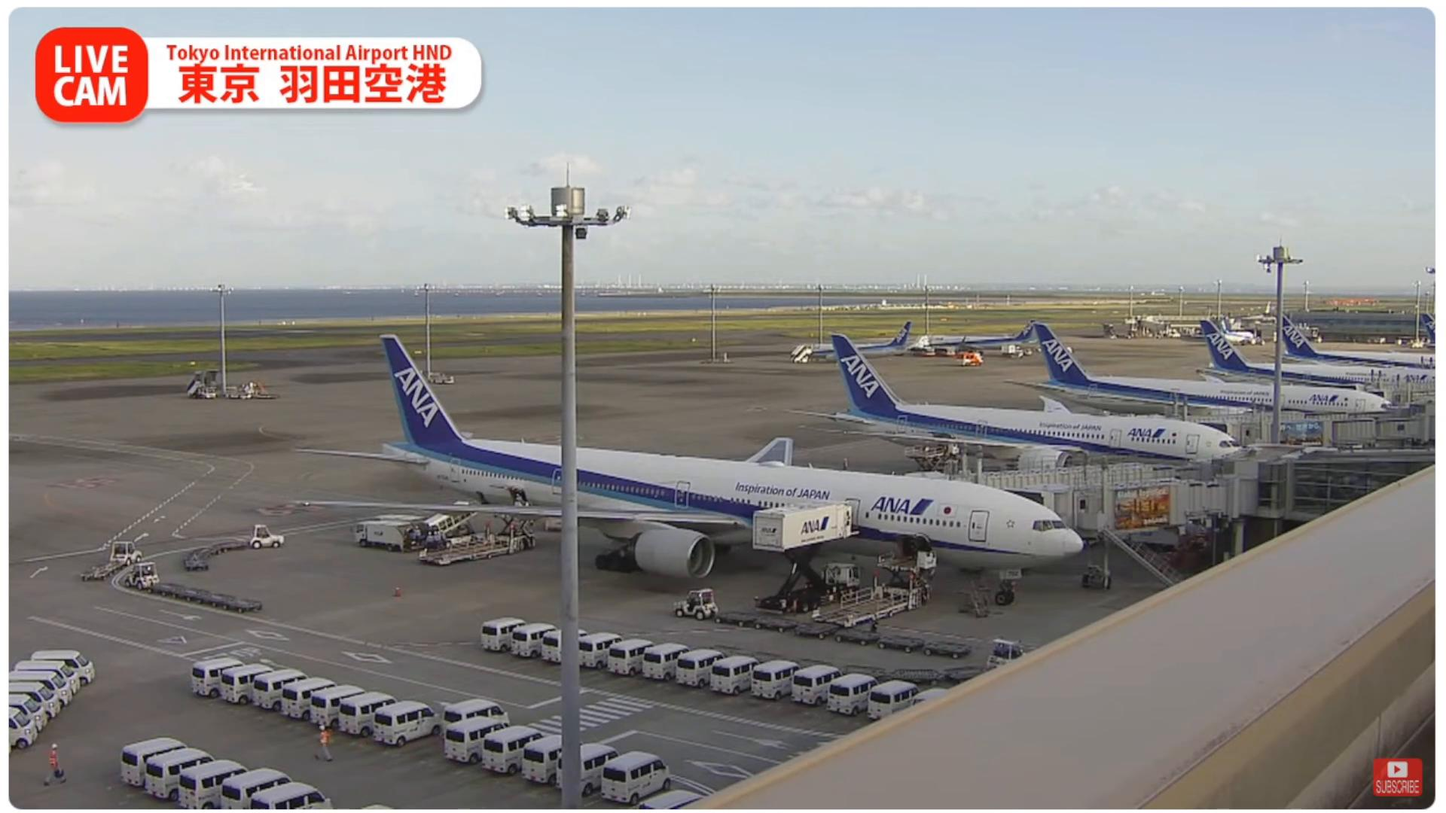Aerobridge: (990, 474, 1217, 523), (903, 458, 1204, 486)
Airplane: (297, 333, 1082, 582)
Baggage truck: (350, 518, 412, 549), (381, 512, 423, 541)
Catering: (751, 501, 860, 615)
Dolly: (710, 610, 974, 660), (144, 582, 263, 612), (185, 539, 250, 571), (79, 561, 125, 580)
JCPL: (819, 549, 941, 632), (416, 502, 537, 565)
Skyloader: (420, 510, 487, 544)
Tractor: (678, 586, 726, 620), (248, 524, 286, 549), (123, 563, 161, 587), (109, 540, 140, 565)
Window: (1253, 443, 1435, 520)
